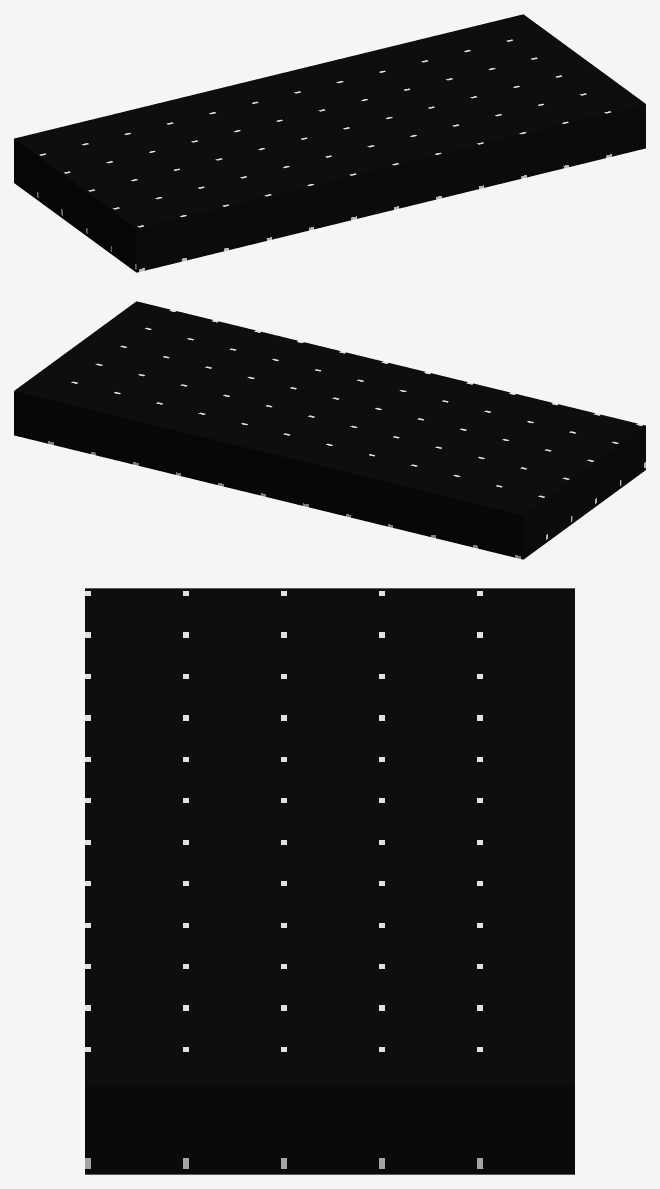
File: vetro3x4_UV.gltf
3 renders of one model, top to bottom at view 1: azimuth 30°, elevation 25°; view 2: azimuth 150°, elevation 25°; view 3: azimuth 270°, elevation 25°, orthographic. The views are drawn at different scales.
Parts seen in each view (by area): view 1: Layer.1, Layer.2; view 2: Layer.1, Layer.2; view 3: Layer.1, Layer.2.
Boxes of the visible parts, x1,y1,x2,y2 form: Layer.1: (14, 14, 645, 272); Layer.2: (81, 42, 578, 199); Layer.1: (14, 301, 645, 559); Layer.2: (81, 329, 578, 486); Layer.1: (85, 588, 574, 1174); Layer.2: (183, 630, 476, 1044).
Bounding box in the file's own units: 12 × 1 × 5.
1 material, 1 textured.
